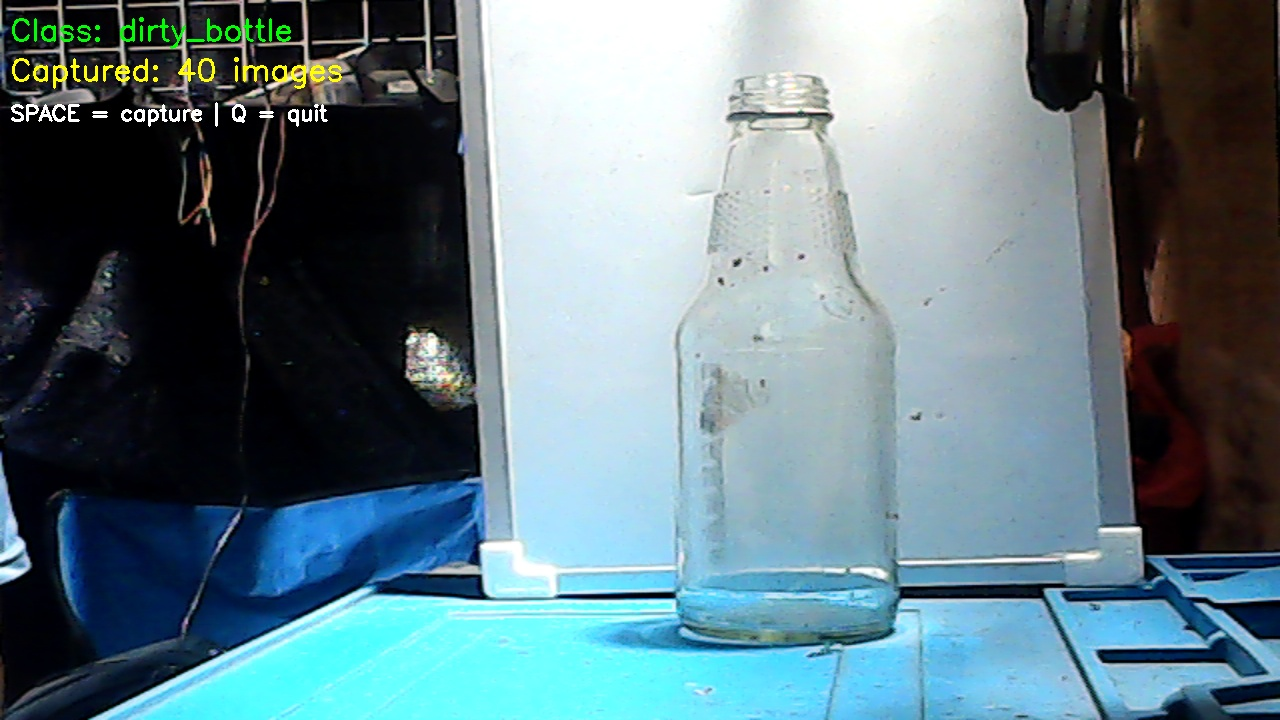dirty_bottle: (666, 64, 908, 647)
